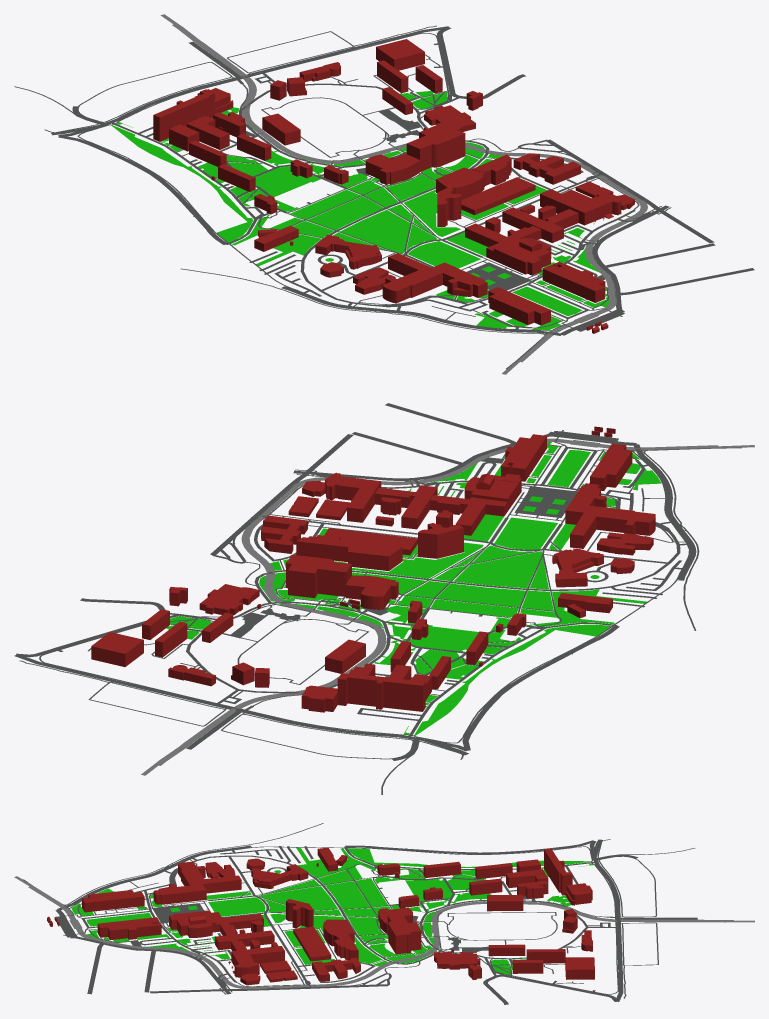
The model's file is univExtrude.glb.
3 views of the same model, one above another, from view 1: azimuth 30°, elevation 25°; view 2: azimuth 150°, elevation 25°; view 3: azimuth 270°, elevation 25° (orthographic). The views are drawn at different scales.
Visible parts, largest first — view 1: Tramway de Caen.001, Bâtiment D, element.303, SUAPS, element.378, Bâtiment L, Vissol, Bâtiment A, Bâtiment B, Bâtiment M, element.419, Bâtiment G (+34 smaller); view 2: Vissol, Bâtiment D, Tramway de Caen.001, SUAPS, element.303, element.378, Bâtiment L, Bâtiment N, element.419, Bâtiment H, Restaurant Universitaire A, element.368 (+31 smaller); view 3: Tramway de Caen.001, element.303, Bâtiment D, Bâtiment A, SUAPS, Bâtiment L, Bâtiment B, element.378, element.304, Bâtiment M, element.368, Bâtiment G (+43 smaller).
Boxes of the visible parts, x1,y1,x2,y2 form: Tramway de Caen.001: (172,24,645,374); Bâtiment D: (382,253,455,303); element.303: (231,180,381,266); SUAPS: (406,124,465,171); element.378: (340,210,410,253); Bâtiment L: (540,189,621,225); Vissol: (153,89,214,141); Bâtiment A: (542,261,605,302); Bâtiment B: (488,287,550,325); Bâtiment M: (502,207,578,242); element.419: (111,125,253,242); Bâtiment G: (461,177,535,215); Vissol: (337,673,425,711); Bâtiment D: (565,503,655,548); Tramway de Caen.001: (159,439,754,765); SUAPS: (286,554,351,597); element.303: (397,589,646,626); element.378: (453,551,542,588); Bâtiment L: (325,472,381,522); Bâtiment N: (430,495,507,535); element.419: (414,624,611,735); Bâtiment H: (348,539,402,570); Restaurant Universitaire A: (345,575,398,609); element.368: (494,517,557,549); Tramway de Caen.001: (14,876,734,988); element.303: (296,847,390,915); Bâtiment D: (178,862,241,901); Bâtiment A: (97,917,161,940); SUAPS: (387,914,421,954); Bâtiment L: (231,946,284,977); Bâtiment B: (82,890,144,912); element.378: (259,886,337,910); element.304: (317,870,388,941); Bâtiment M: (215,930,274,951); element.368: (208,897,265,916); Bâtiment G: (293,926,331,961).
Bounding box in the file's own units: 648 × 33.02 × 1116.
